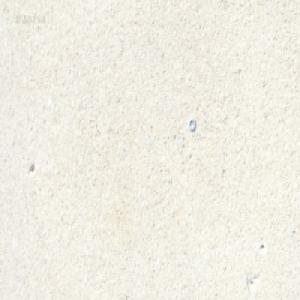Washer: (188, 117, 195, 132)
